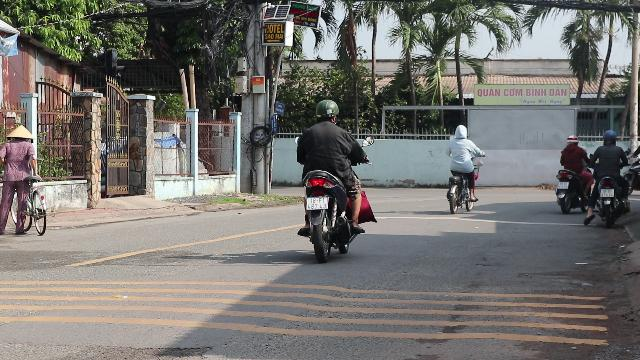helmet: (314, 98, 340, 122), (602, 130, 616, 144)
licenseplate: (307, 196, 327, 208), (600, 189, 614, 197)
motorcyclist: (292, 97, 376, 260), (589, 128, 631, 226)
